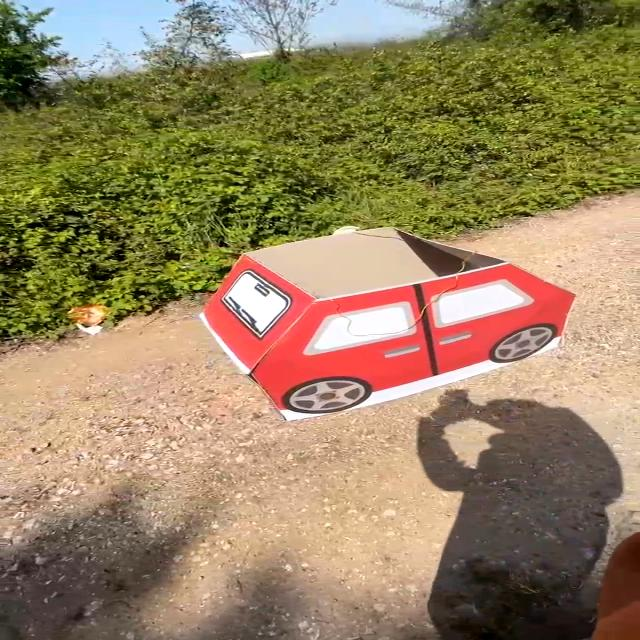red_car: (183, 216, 604, 430)
